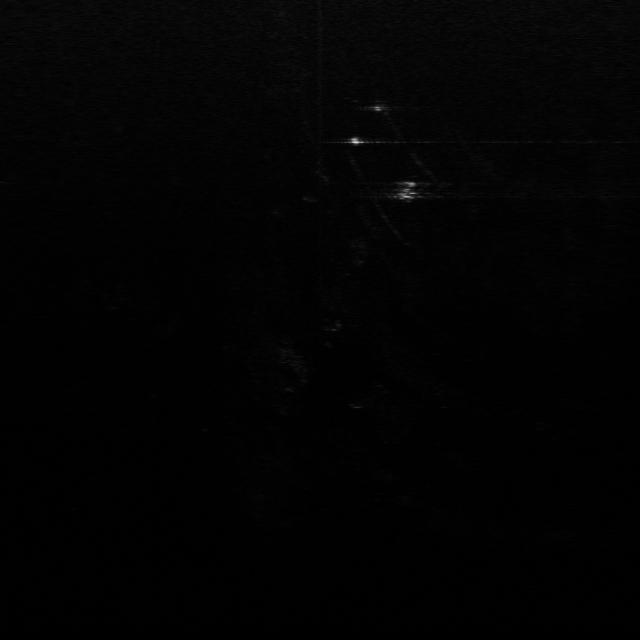rov: (390, 177, 420, 204)
